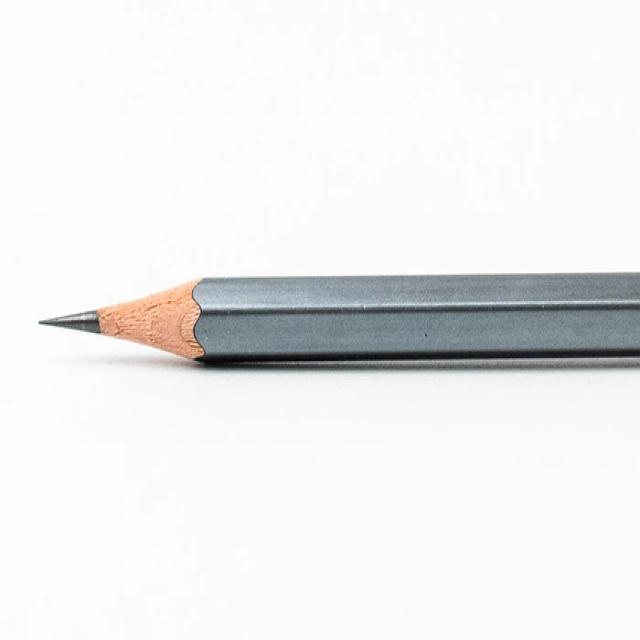pencil: (30, 263, 639, 376)
